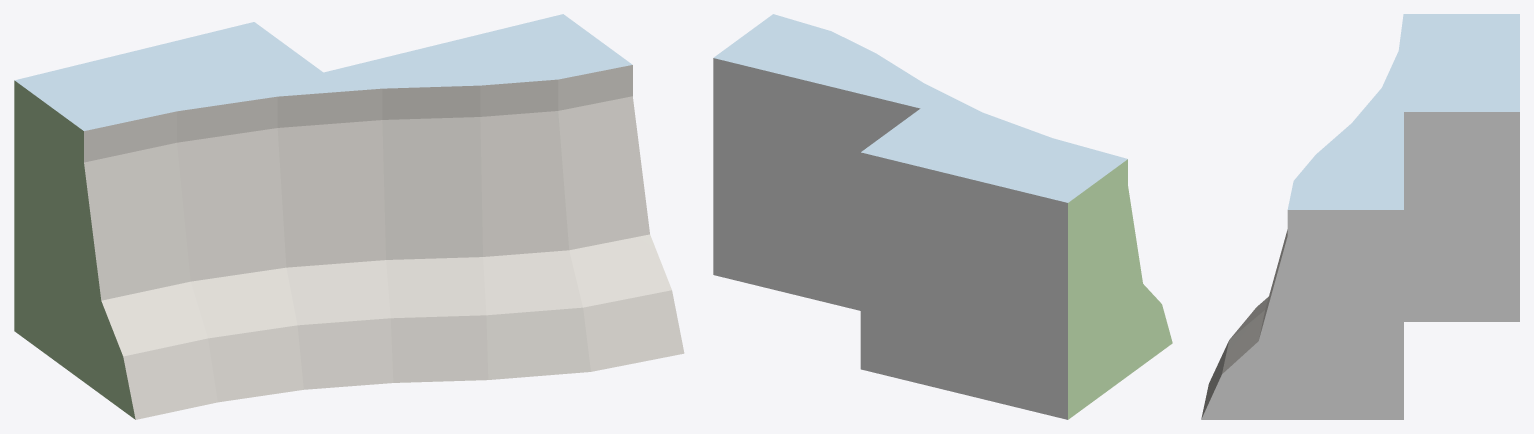
File: Wall_Esse_3x4_Base.fbx
3 views of the same model, side by side, from view 1: azimuth 30°, elevation 25°; view 2: azimuth 150°, elevation 25°; view 3: azimuth 270°, elevation 25° (orthographic). The views are drawn at different scales.
Parts seen in each view (by area): view 1: Wall_Esse_3x4_Base; view 2: Wall_Esse_3x4_Base; view 3: Wall_Esse_3x4_Base.
Part boxes in pixels (bbox=[...]): Wall_Esse_3x4_Base: bbox=[14, 14, 684, 419]; Wall_Esse_3x4_Base: bbox=[713, 14, 1172, 419]; Wall_Esse_3x4_Base: bbox=[1201, 14, 1519, 419].
Size of the model in its own units: 400 by 200 by 275.
